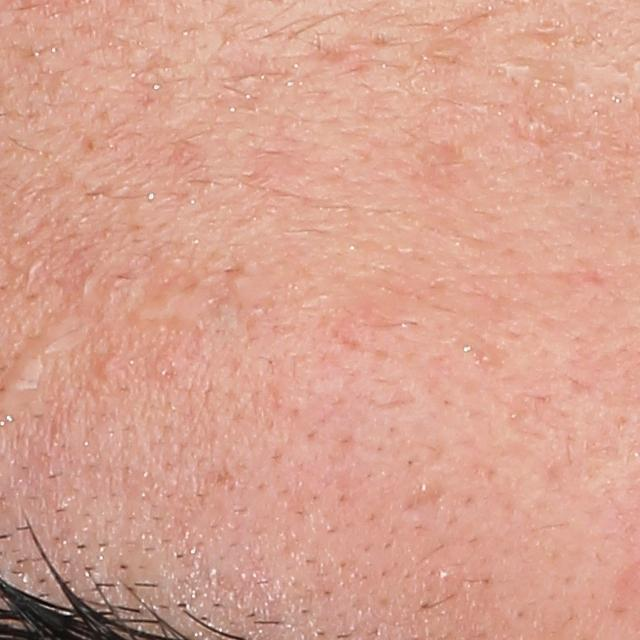atrophic_scar: (396, 486, 453, 517)
comedo: (97, 355, 120, 379)
